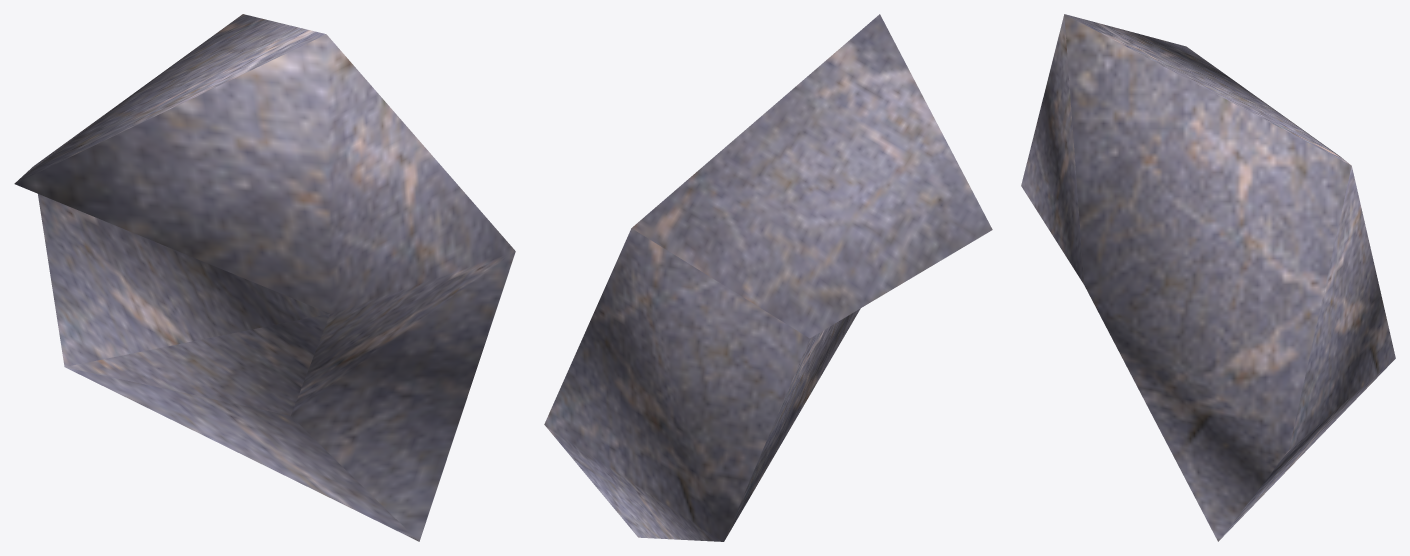
Rendered from Type3_Rock_medium_2.fbx.
The picture shows the model from 3 angles, left to right: view 1: azimuth 30°, elevation 25°; view 2: azimuth 150°, elevation 25°; view 3: azimuth 270°, elevation 25°; orthographic projection. The views are drawn at different scales.
Parts seen in each view (by area): view 1: Type3_Rock_medium_2; view 2: Type3_Rock_medium_2; view 3: Type3_Rock_medium_2.
Boxes of the visible parts, box(x1,y1,x2,y2) form: Type3_Rock_medium_2: box(14, 14, 515, 541); Type3_Rock_medium_2: box(544, 14, 992, 541); Type3_Rock_medium_2: box(1021, 14, 1395, 541).
Size of the model in its own units: 1.09 by 1.33 by 0.9881.
